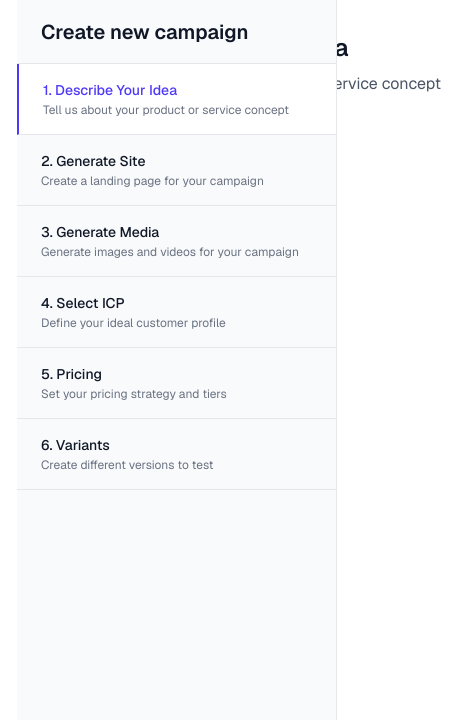
Scenario: CampaignContent component › updates main content when selecting Generate Media section
Note: Click on "Generate Media" section
Step 1. Click the text "3. Generate Media" → {"x": 100, "y": 232}, box [41,222,159,242]
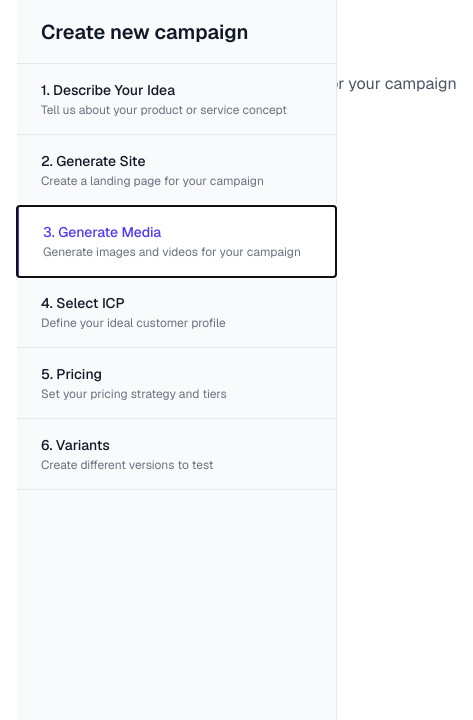
Check: the heading "3. Generate Media" is shown, box [113,32,320,63]
Check: the element that starts with "3. Generate Media" shows "Generate images and videos for your campaign", box [113,73,457,94]
